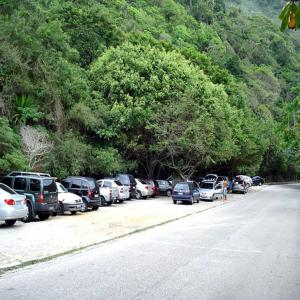Vehicle-registration-plate: (18, 201, 22, 206)
